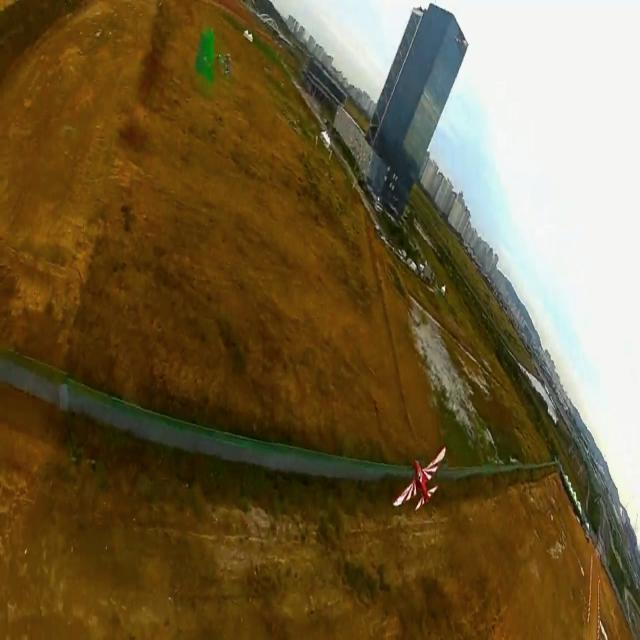iha: (392, 476, 447, 479)
